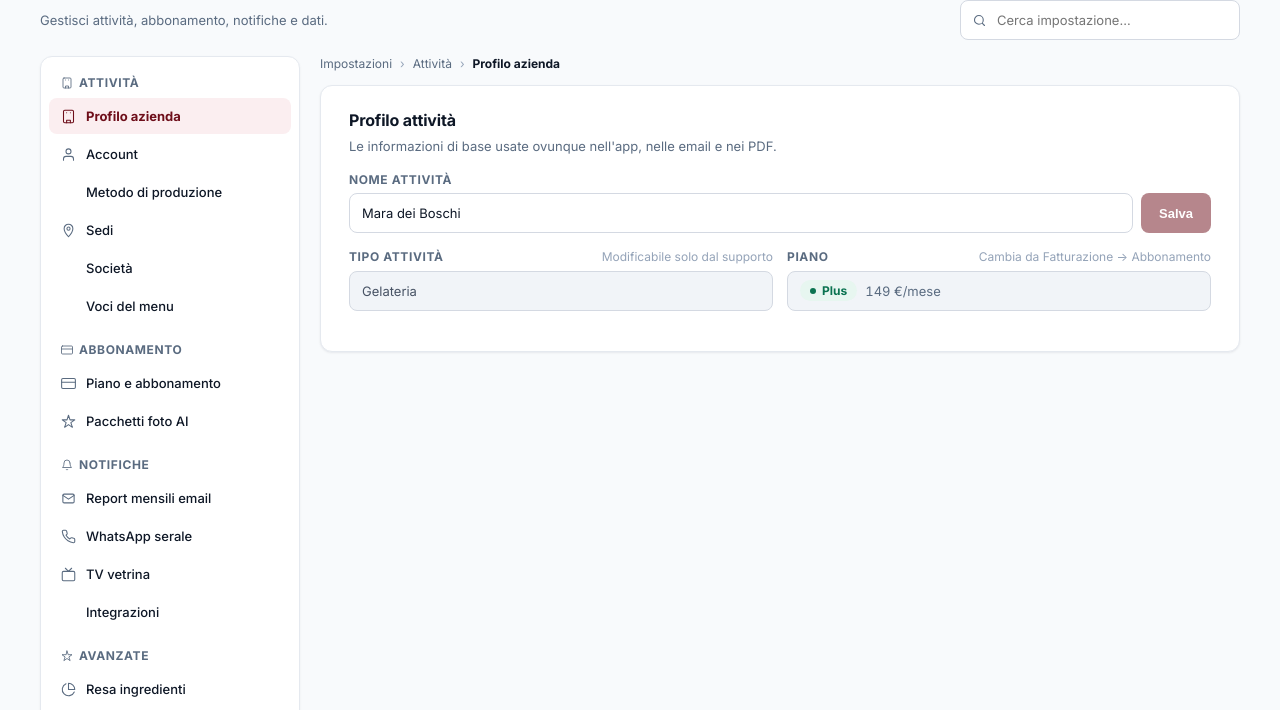
Test: Impostazioni · metodo di produzione › premere l'altro metodo apre la richiesta, non cambia niente
Click the button "Metodo di produzione".
click(170, 192)  # box [49, 174, 291, 210]
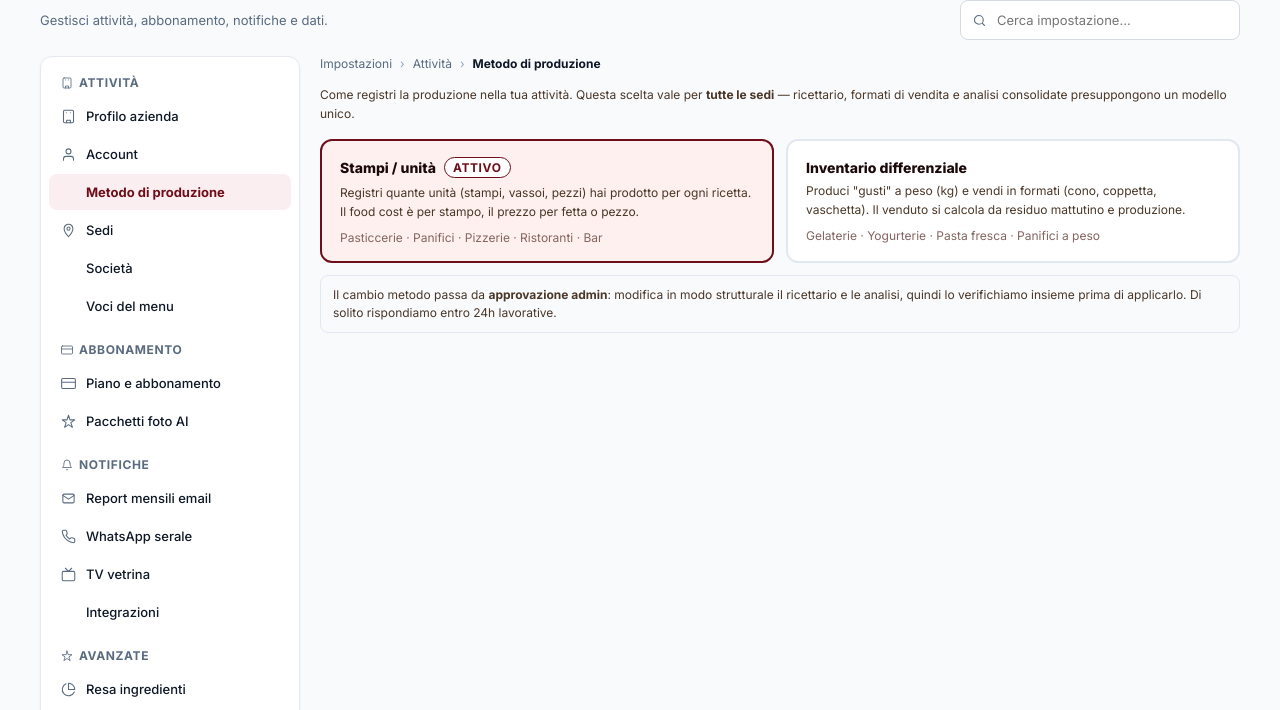
Click the button "Inventario differenziale".
click(1013, 201)  # box [786, 139, 1240, 263]
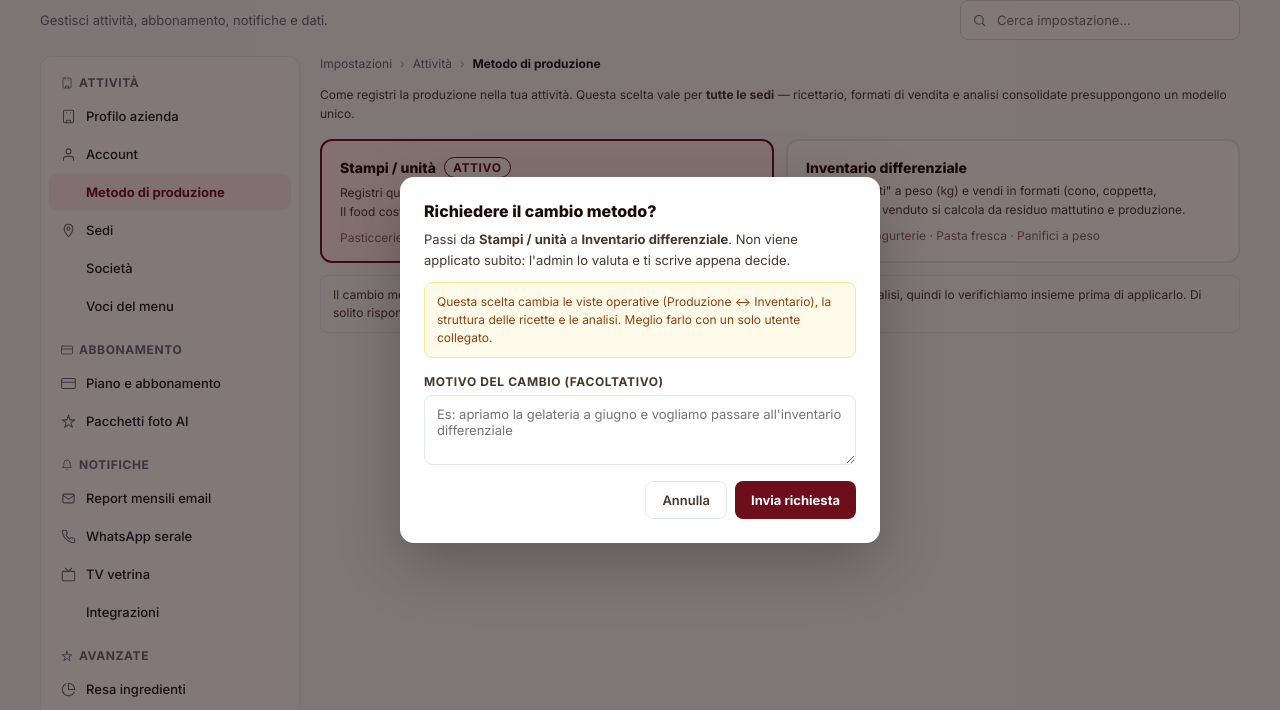
Now the dialog is shown, box [400, 177, 880, 543]
